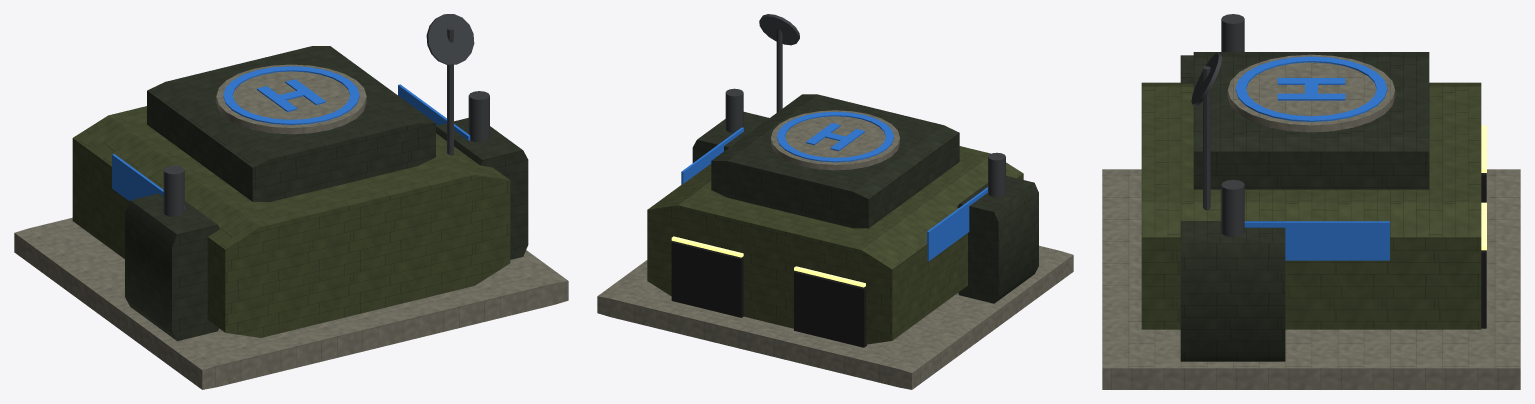
Rendered from militar_base.glb.
The picture shows the model from 3 angles, left to right: view 1: azimuth 30°, elevation 25°; view 2: azimuth 150°, elevation 25°; view 3: azimuth 270°, elevation 25°; orthographic projection. The views are drawn at different scales.
Parts seen in each view (by area): view 1: Body_Hull, Body_HullDark, Body_Concrete, Body_TeamColor, Body_Metal; view 2: Body_Hull, Body_HullDark, Body_Concrete, Body_Track, Body_TeamColor, Body_Metal, Body_Glow; view 3: Body_Hull, Body_Concrete, Body_HullDark, Body_TeamColor, Body_Metal, Body_Track, Body_Glow.
Boxes of the visible parts, bbox=[...] form: Body_Hull: bbox=[72, 106, 510, 337]; Body_HullDark: bbox=[125, 46, 528, 341]; Body_Concrete: bbox=[14, 64, 568, 389]; Body_TeamColor: bbox=[112, 66, 470, 209]; Body_Metal: bbox=[163, 14, 489, 216]; Body_Hull: bbox=[647, 146, 1023, 344]; Body_HullDark: bbox=[692, 94, 1038, 303]; Body_Concrete: bbox=[597, 110, 1073, 389]; Body_Track: bbox=[671, 241, 866, 347]; Body_TeamColor: bbox=[681, 111, 987, 261]; Body_Metal: bbox=[725, 14, 1005, 196]; Body_Glow: bbox=[671, 236, 865, 287]; Body_Hull: bbox=[1141, 82, 1481, 329]; Body_Concrete: bbox=[1102, 54, 1520, 389]; Body_HullDark: bbox=[1180, 52, 1429, 361]; Body_TeamColor: bbox=[1235, 56, 1389, 260]; Body_Metal: bbox=[1191, 14, 1244, 236]; Body_Track: bbox=[1481, 173, 1486, 328]; Body_Glow: bbox=[1481, 125, 1486, 250].
Bounding box in the file's own units: 18 × 12.5 × 16.
Materials: 7 (3 with a texture image).
